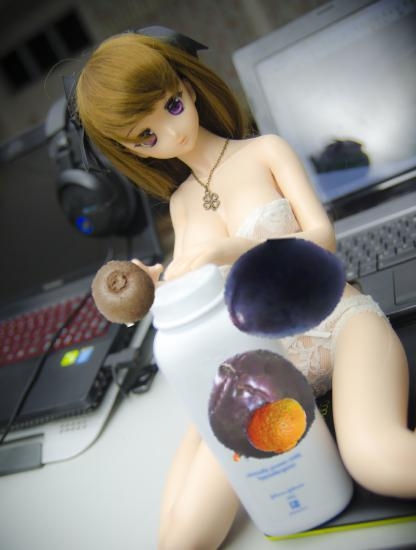Kiwi: (91, 258, 159, 326)
Mandarine: (244, 395, 309, 460)
Passion: (203, 347, 323, 467)
Plum: (222, 225, 349, 352)
